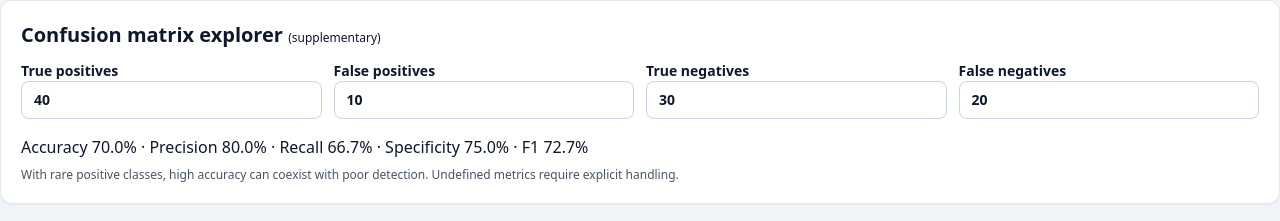
Test: v1.6 learning tools › updates confusion matrix and validates counts
The width and height of the screenshot is (1280, 221).
Expected: the text "Accuracy 70.0%" is shown, [21, 136, 588, 158]
Replace the text in the number field labelled "True positives" with "-1". click: [171, 100]
box: [21, 81, 322, 119]
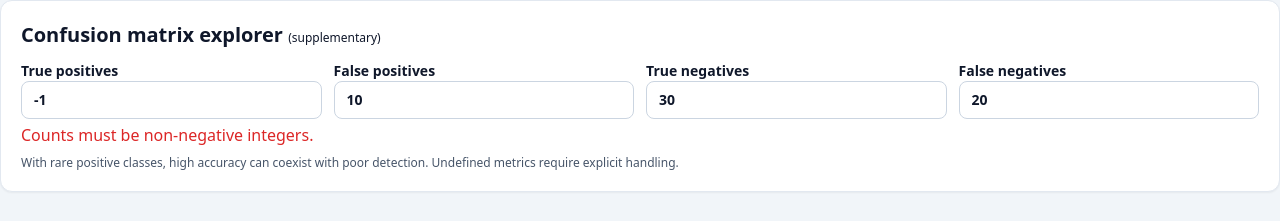
Now the message "Counts must be non-negative integers." is shown, box [21, 124, 313, 146]
